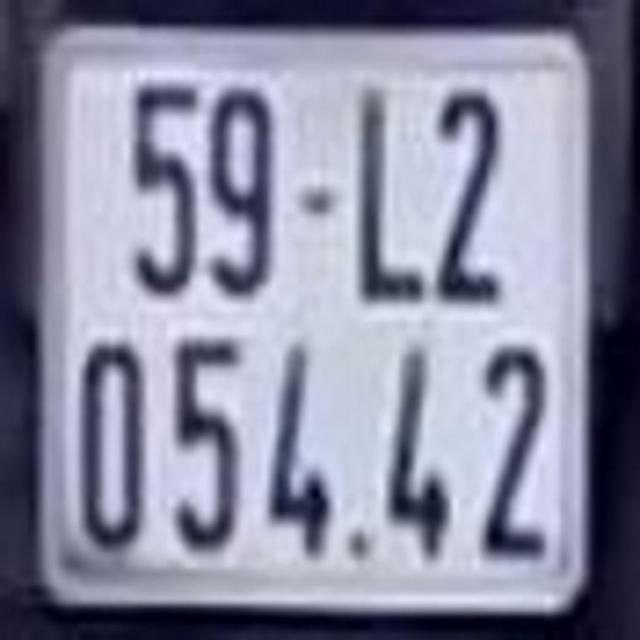0: (74, 334, 146, 554)
2: (477, 337, 552, 569), (434, 72, 506, 309)
4: (384, 338, 450, 569), (262, 334, 328, 562)
5: (168, 324, 242, 558), (130, 78, 200, 296)
9: (206, 75, 272, 303)
L: (350, 79, 427, 308)
